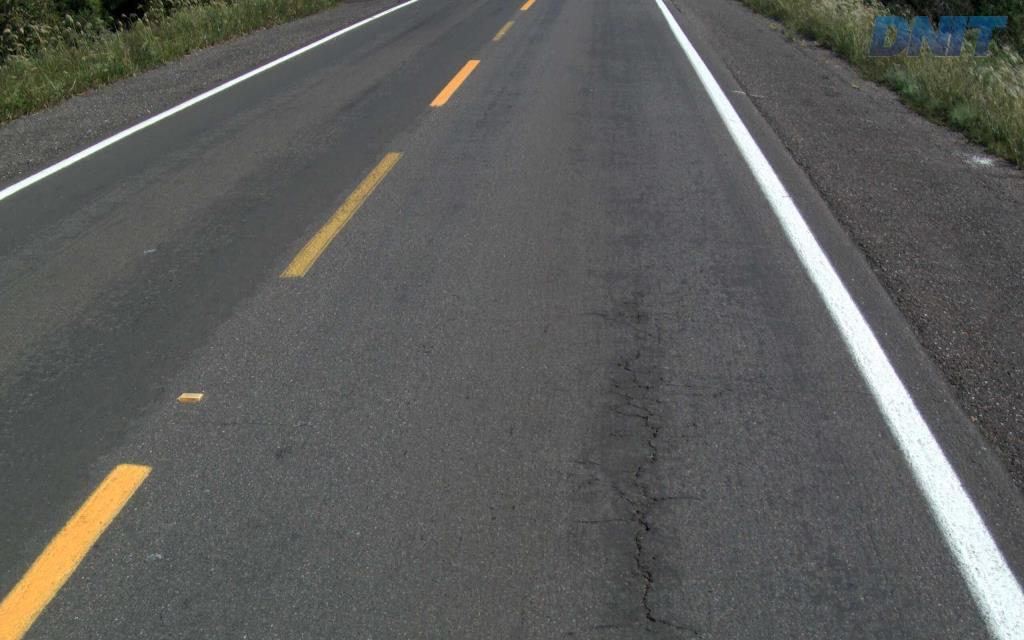crack: (631, 532, 656, 622)
